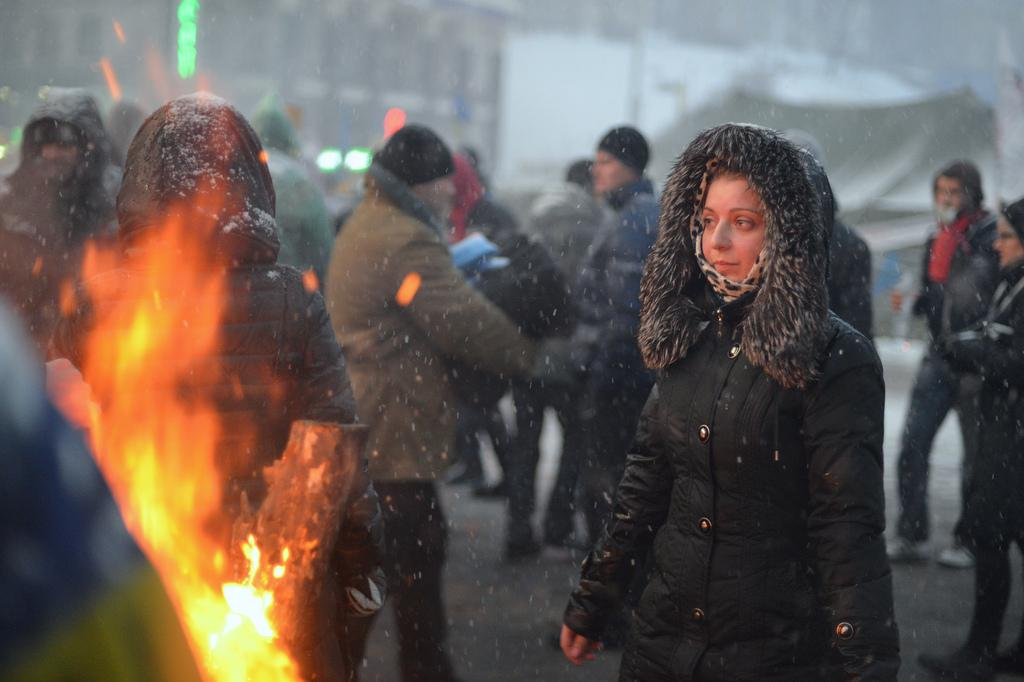fire: (102, 253, 217, 387), (108, 445, 222, 528), (200, 578, 280, 678)
